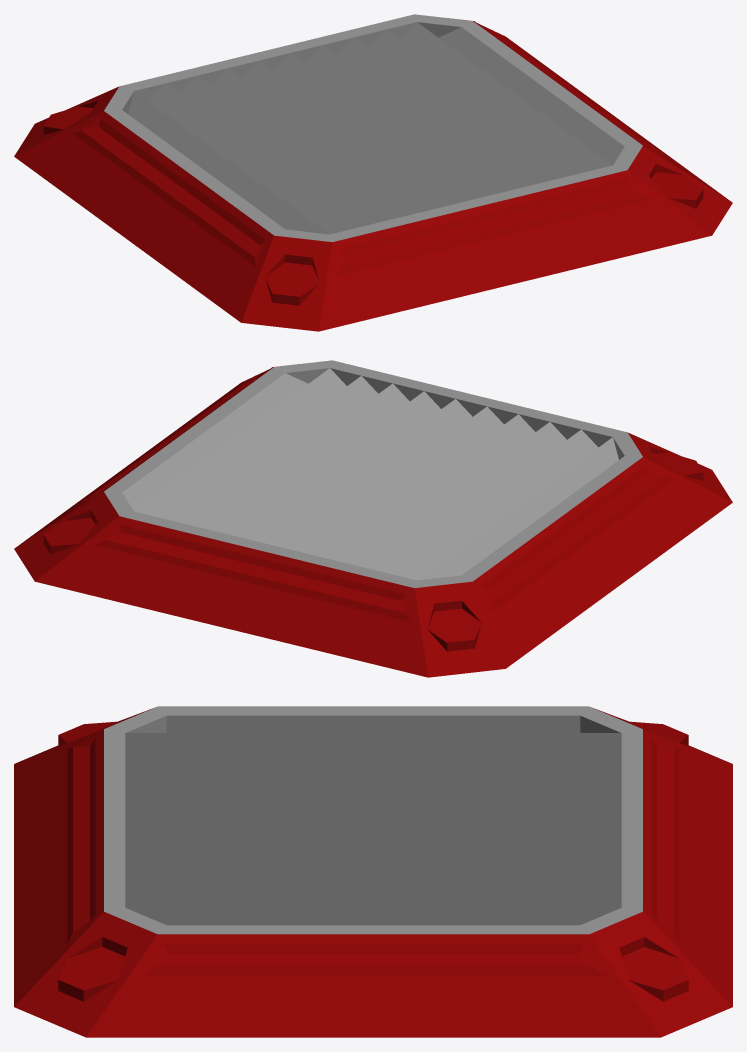
The model's file is SM_FlatVent.fbx.
The picture shows the model from 3 angles, top to bottom: view 1: azimuth 30°, elevation 25°; view 2: azimuth 150°, elevation 25°; view 3: azimuth 270°, elevation 25°; orthographic projection. The views are drawn at different scales.
Visible parts, largest first — view 1: Plane.001; view 2: Plane.001; view 3: Plane.001.
Part boxes in pixels (bbox=[...]): Plane.001: bbox=[14, 14, 732, 331]; Plane.001: bbox=[14, 360, 732, 677]; Plane.001: bbox=[14, 706, 732, 1037].
Size of the model in its own units: 100 by 10 by 100.
